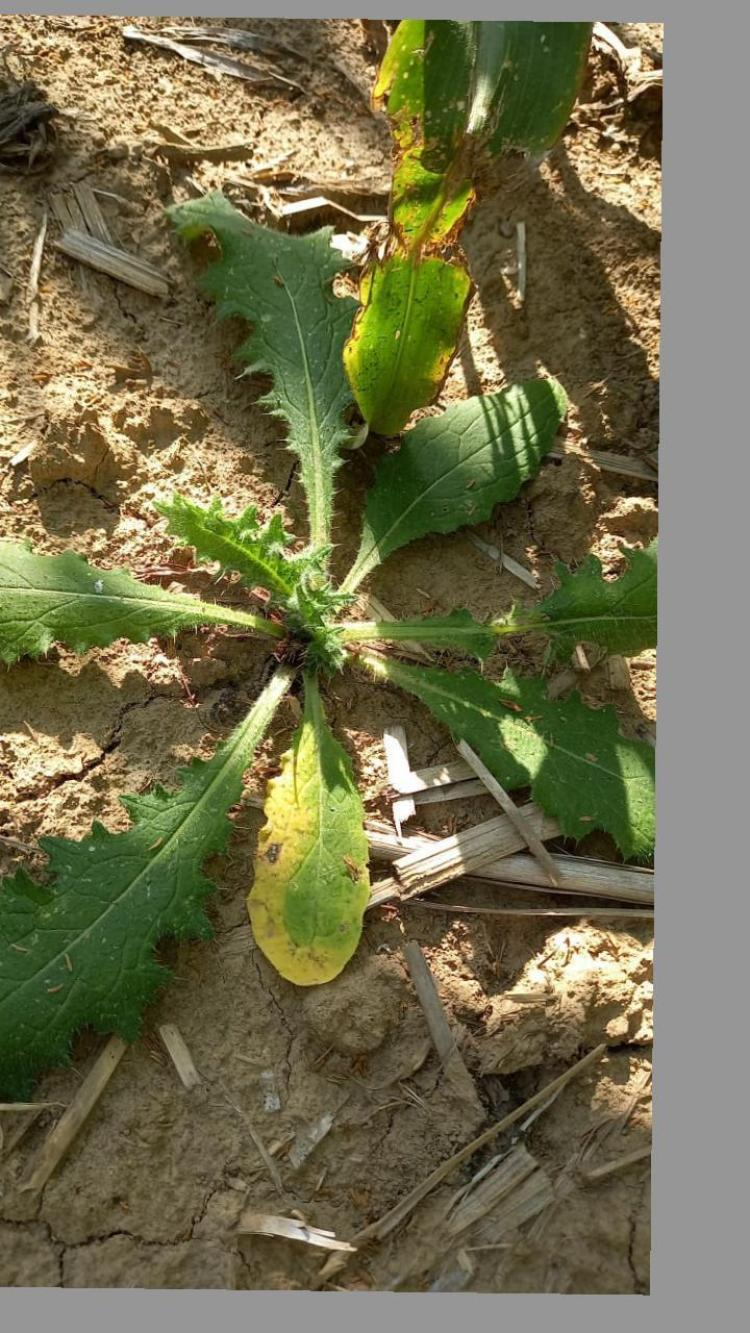osot: (0, 190, 654, 1116)
